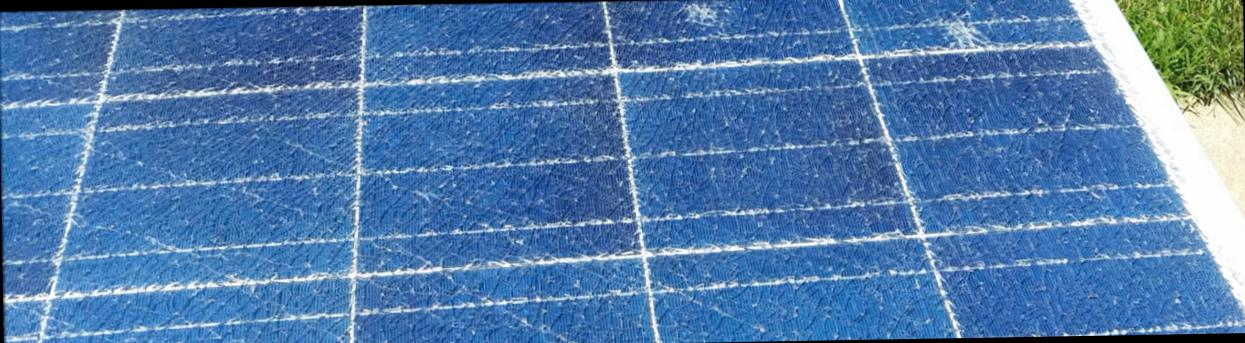Crack: (929, 12, 992, 61), (666, 0, 749, 34)
